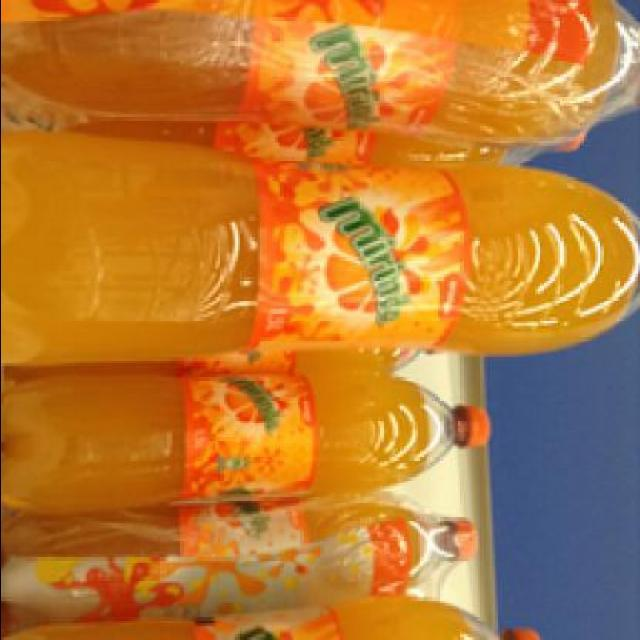Fanta: (3, 134, 639, 360), (4, 2, 638, 138), (3, 363, 491, 508), (3, 497, 480, 614)
